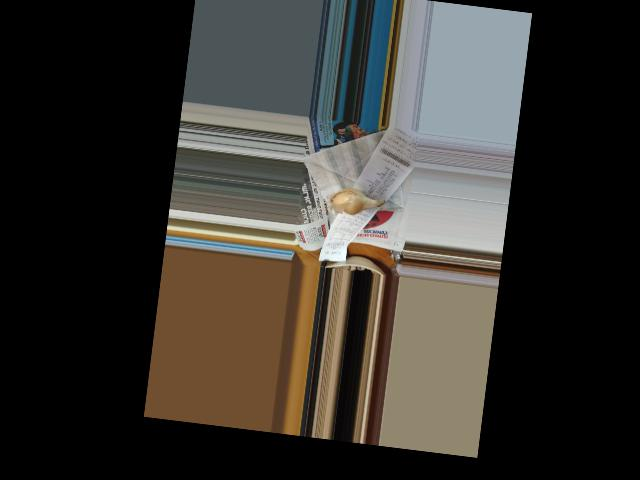onion: (332, 184, 372, 217)
